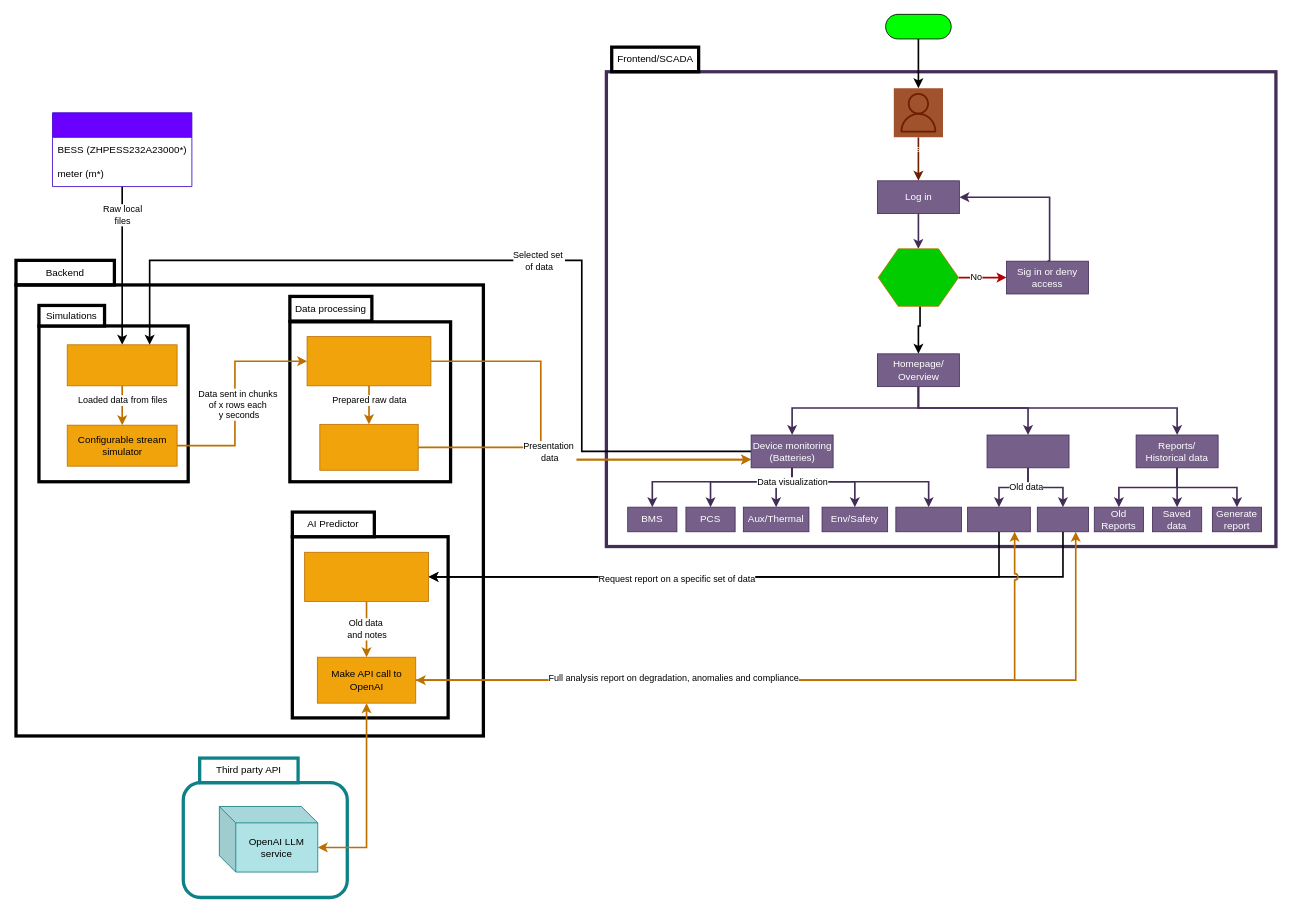
This 1292x913 diagram has some shape labels left out. Each missing label, with the box of its shape:
.csv files loader: (66, 344, 177, 386)
Anomalies: (1036, 506, 1089, 532)
Degradation: (967, 506, 1030, 532)
Derived metrics / Aggregation: (319, 424, 418, 470)
Forecast: (986, 434, 1069, 468)
Ingestion, pre-processing and normalization (V, A, °C, kWh): (306, 336, 431, 386)
Make Forecast request for degradation and anomalies: (304, 551, 428, 601)
Provided .csv files: (52, 112, 192, 187)
Smart M: (895, 506, 961, 532)
Start: (885, 14, 951, 39)
User is registered?: (877, 248, 959, 306)
